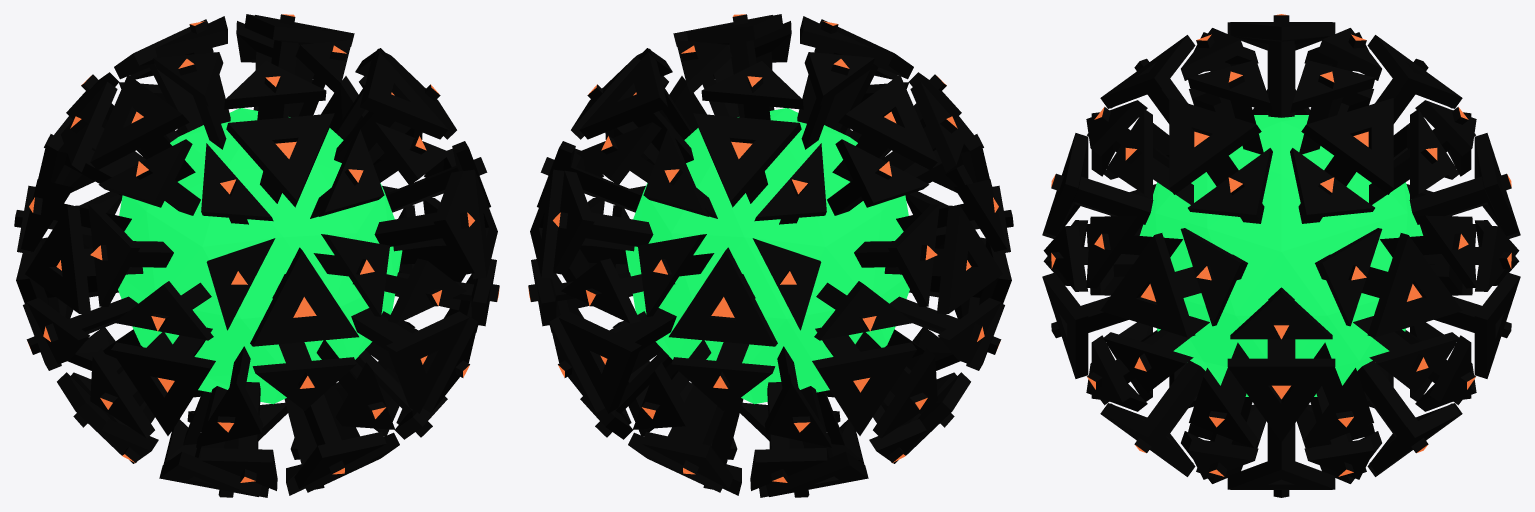
File: engine_core.glb
3 views of the same model, side by side, from view 1: azimuth 30°, elevation 25°; view 2: azimuth 150°, elevation 25°; view 3: azimuth 270°, elevation 25° (orthographic).
Visible parts, largest first — view 1: Icosphere, Icosphere_1, Icosphere_2; view 2: Icosphere, Icosphere_1, Icosphere_2; view 3: Icosphere, Icosphere_1, Icosphere_2.
Boxes of the visible parts, x1,y1,x2,y2 form: Icosphere: (14, 14, 499, 497); Icosphere_1: (118, 108, 402, 404); Icosphere_2: (28, 14, 499, 482); Icosphere: (528, 14, 1013, 497); Icosphere_1: (625, 108, 909, 404); Icosphere_2: (528, 14, 999, 482); Icosphere: (1042, 15, 1520, 497); Icosphere_1: (1139, 115, 1423, 396); Icosphere_2: (1051, 14, 1511, 476).
Size of the model in its own units: 0.1364 by 0.1314 by 0.1351.
